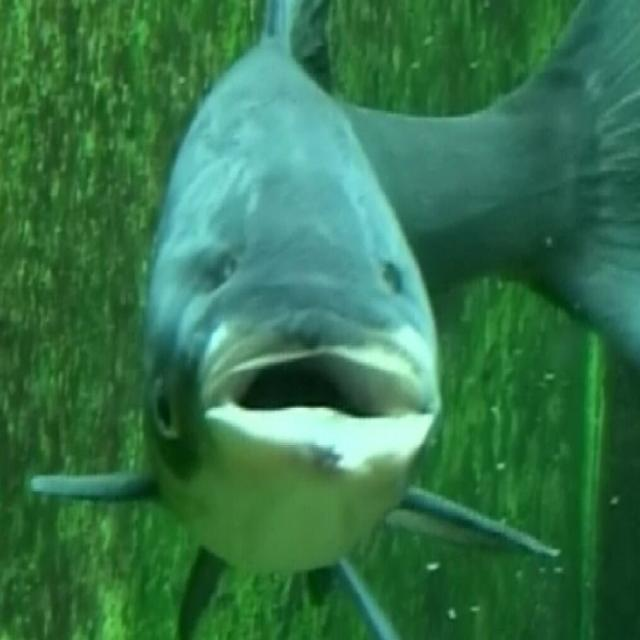Big-Head-Carp: (1, 9, 638, 621)
